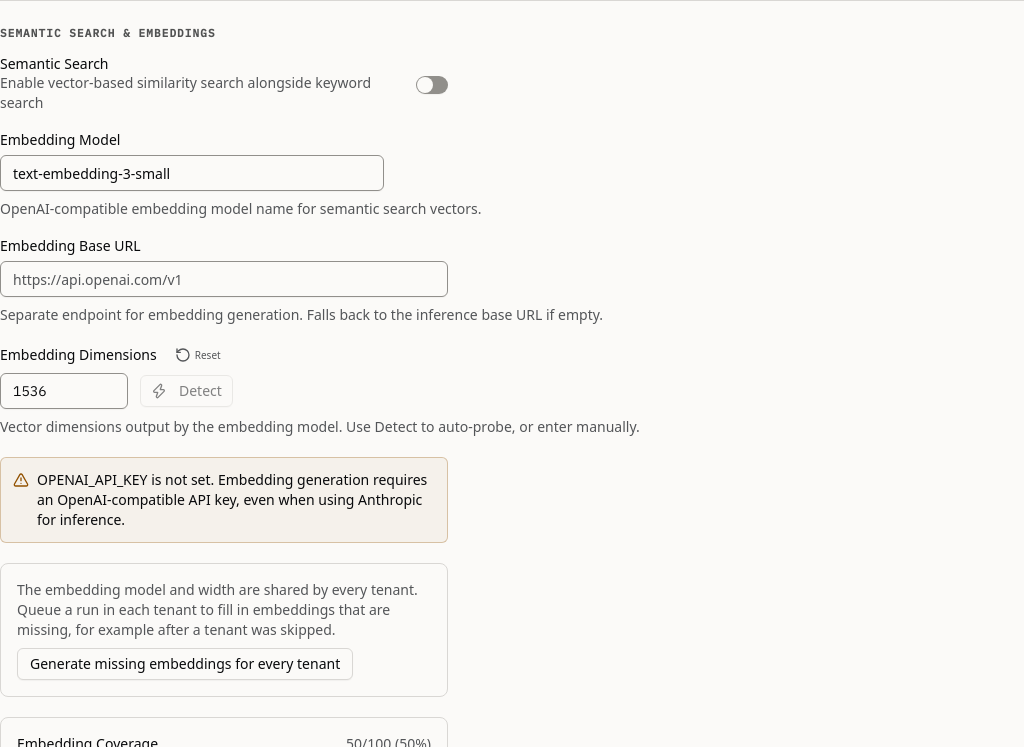
Test: SettingsAITab embedding width confirmation › follows an earlier in-flight run for an admin who can read it, and still asks for a rerun
The width and height of the screenshot is (1024, 747).
(page scrolled)
Replace the text in the number field labelled "Embedding Dimensions" with "768" at (64, 391), box [0,373,128,409]
(page scrolled)
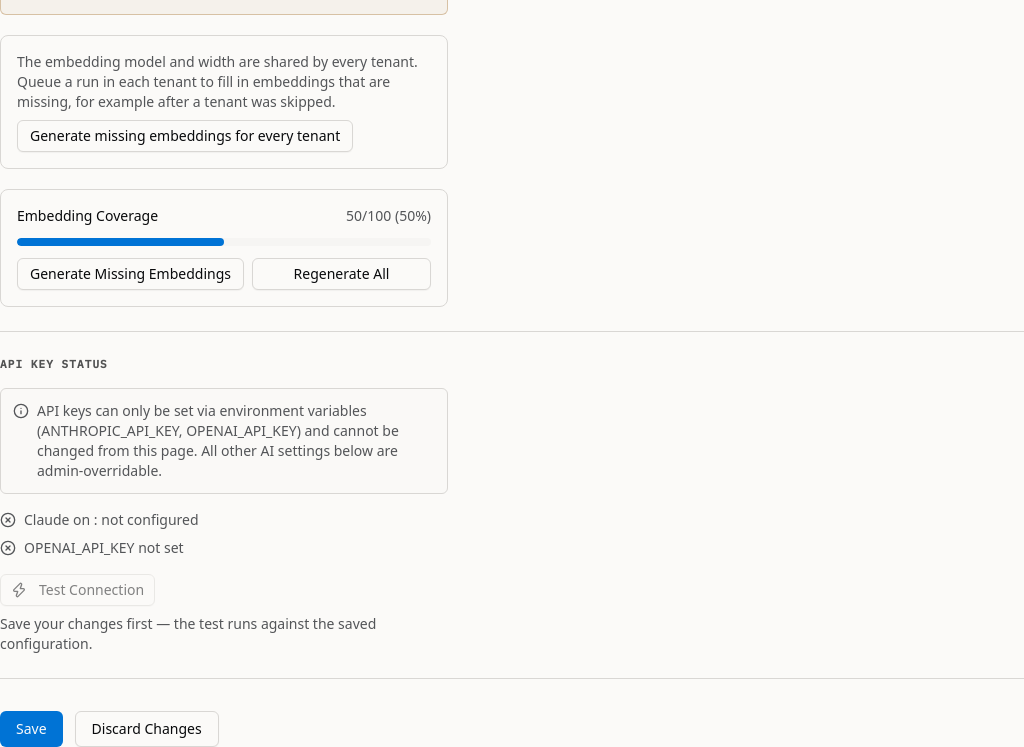
Click the button "Save" at (31, 729), box [0,711,63,746]
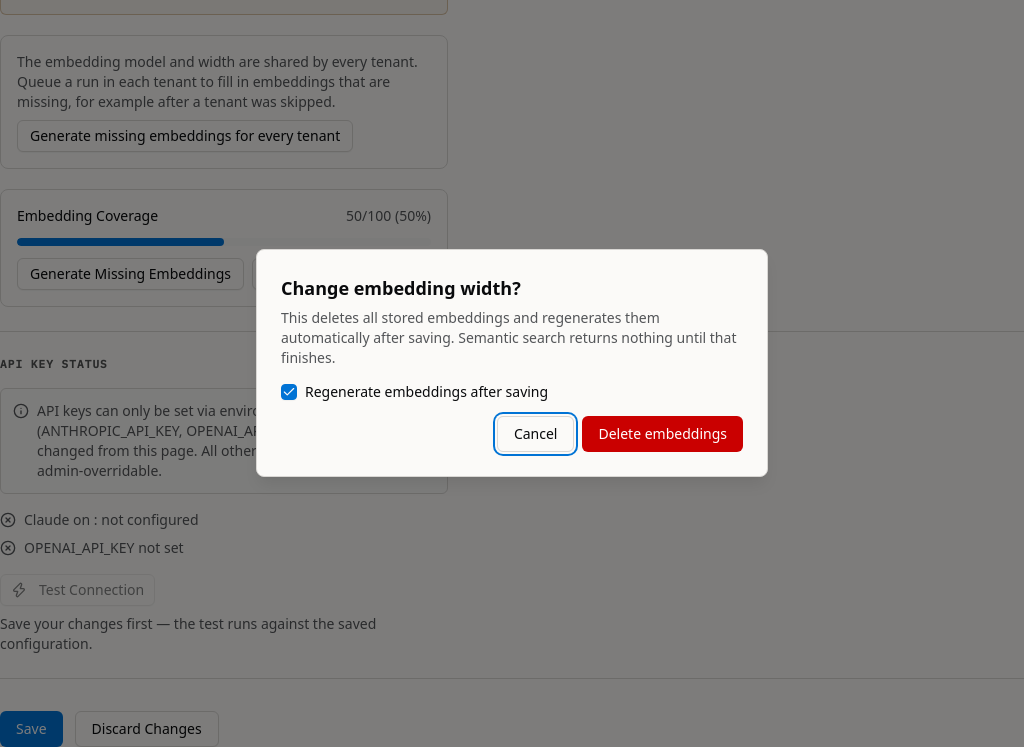
Click the button "Delete embeddings" at (663, 434), box [582,416,743,452]
(page scrolled)
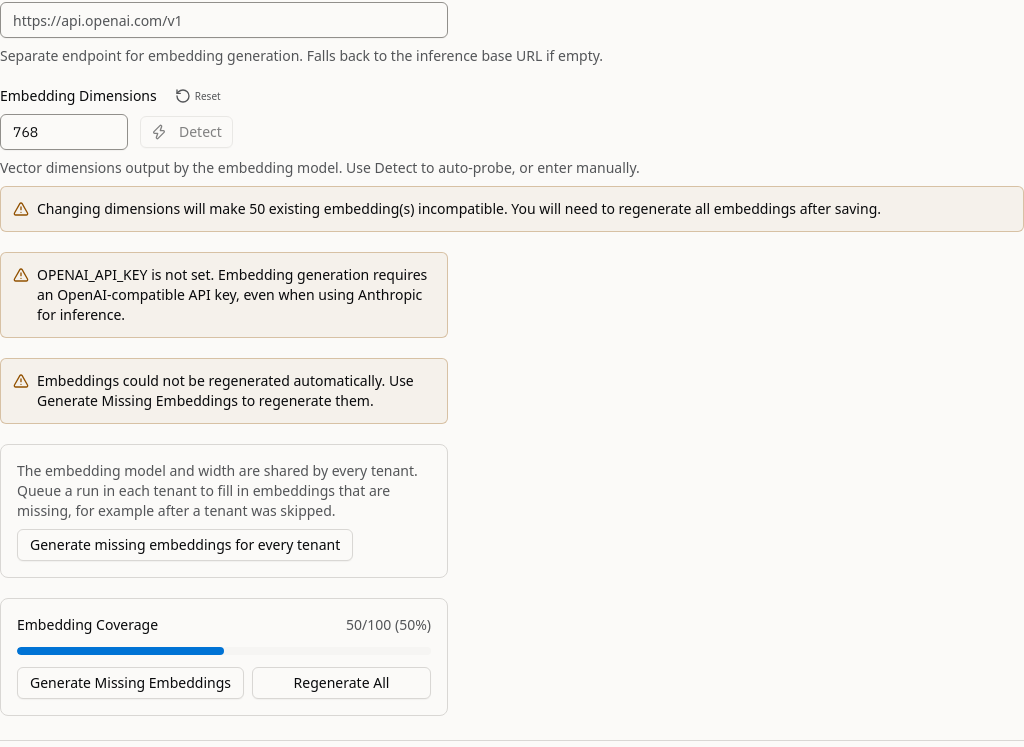
Result: the text "could not be regenerated automatically. Use Generate Missing" is shown at [37,371,414,410]
